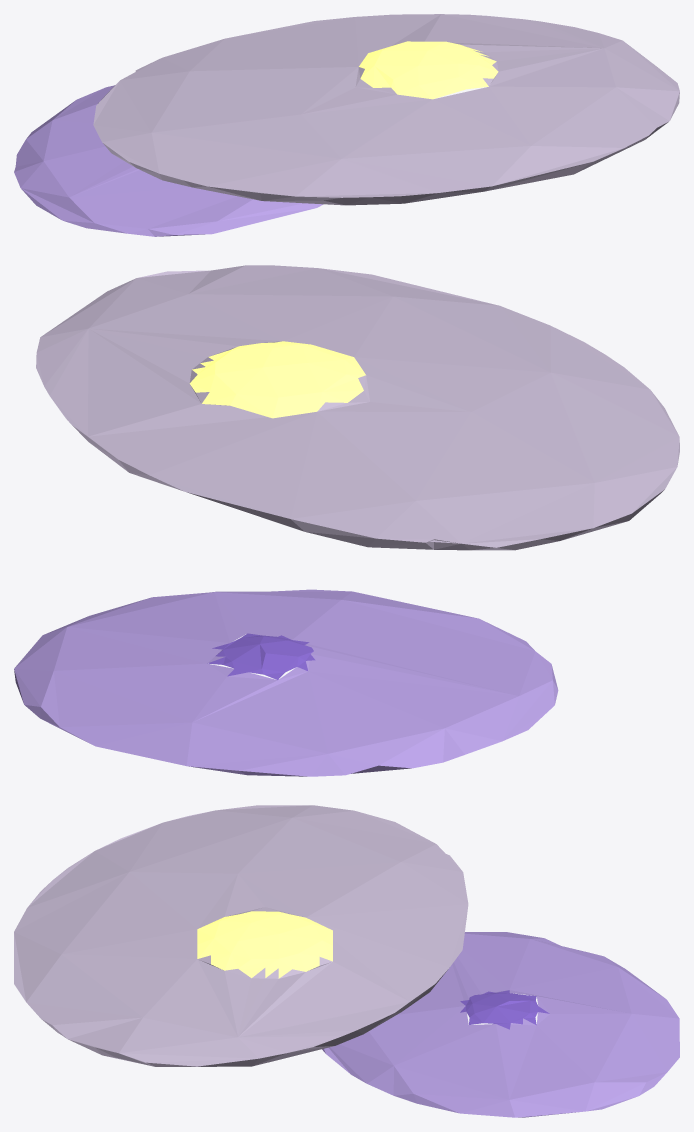
The model's file is spirit_moth_wing.glb.
3 renders of one model, top to bottom at view 1: azimuth 30°, elevation 25°; view 2: azimuth 150°, elevation 25°; view 3: azimuth 270°, elevation 25°, orthographic. The views are drawn at different scales.
Visible parts, largest first — view 1: spirit_moth_wing; view 2: spirit_moth_wing; view 3: spirit_moth_wing.
Part boxes in pixels (x1,y1,x2,y2): spirit_moth_wing: (14, 14, 679, 236); spirit_moth_wing: (14, 265, 679, 776); spirit_moth_wing: (14, 805, 679, 1117).
Bounding box in the file's own units: 0.7931 × 0.2482 × 0.8731.
